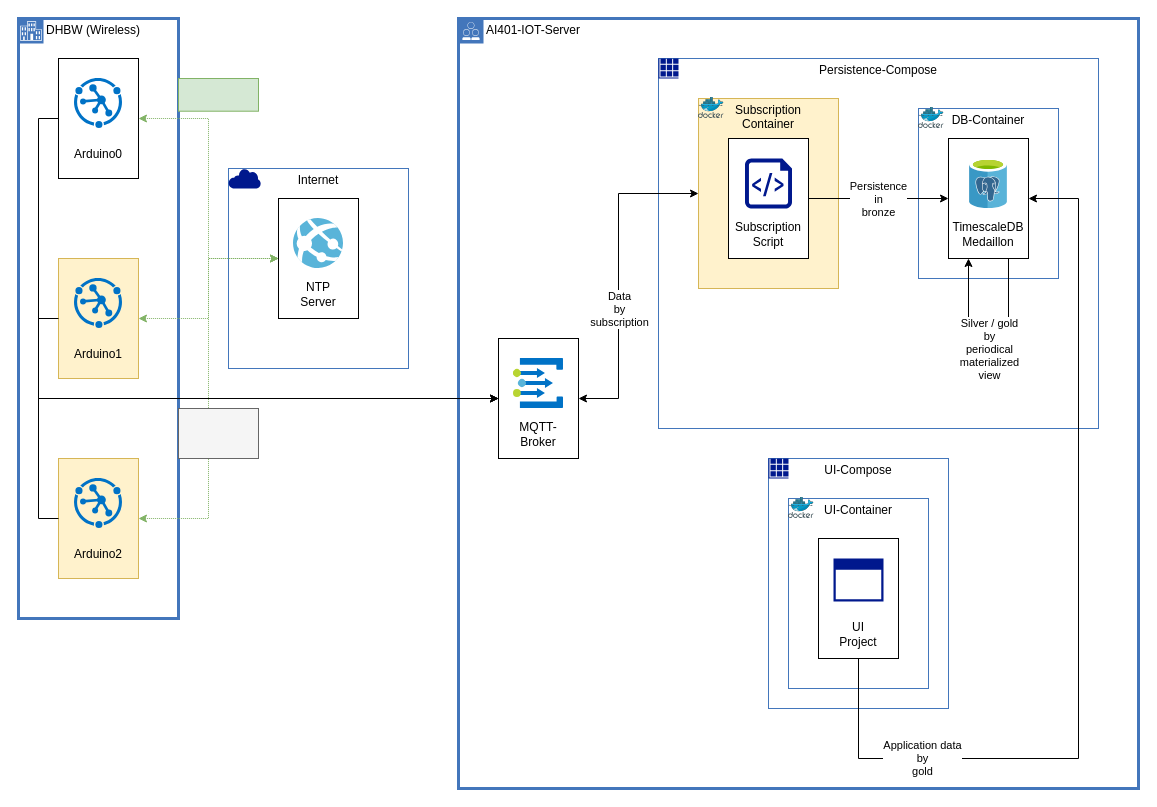
This 1157x807 diagram has some shape labels left out. The centre of each missing label's shape, as x and y in pixels:
Sensordaten + Timestamp: point 218,433
Timestamp Generierung: point 218,94
